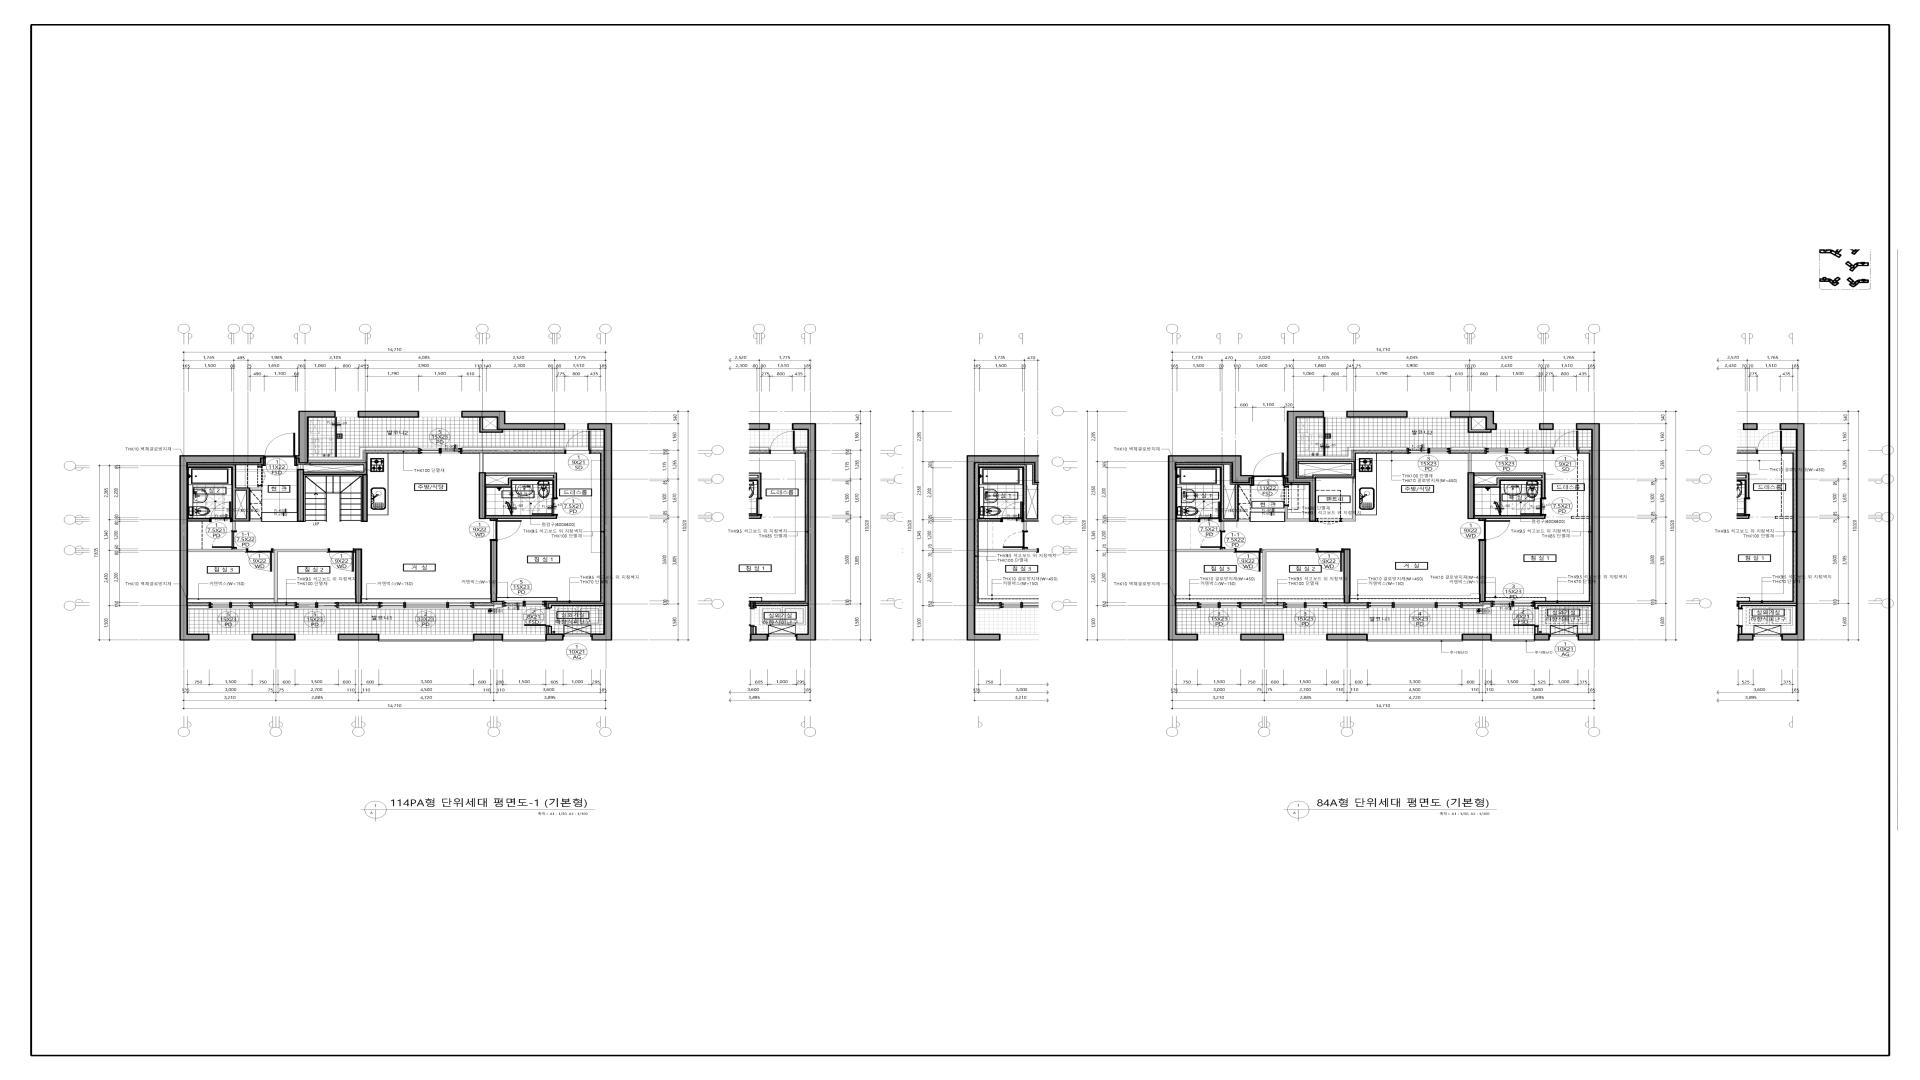door: (264, 433, 296, 466), (1253, 453, 1284, 486), (1478, 519, 1510, 541), (490, 519, 522, 541), (246, 548, 274, 572), (1235, 548, 1262, 572), (1317, 548, 1344, 572), (328, 548, 355, 572), (1553, 431, 1579, 454), (565, 431, 591, 454), (524, 608, 552, 626), (1520, 497, 1546, 515), (1200, 531, 1225, 549), (212, 531, 237, 549), (532, 498, 558, 515), (1198, 502, 1220, 522), (209, 502, 231, 522), (1316, 518, 1341, 525)
wall: (179, 455, 264, 641), (1168, 455, 1253, 641), (587, 423, 612, 641), (1576, 423, 1600, 641), (1176, 464, 1250, 531), (188, 464, 261, 531), (1284, 411, 1324, 522), (1298, 461, 1356, 521), (1262, 549, 1317, 603), (274, 549, 328, 602), (296, 411, 336, 463), (461, 411, 566, 430), (1475, 473, 1546, 497), (486, 473, 557, 497), (309, 447, 419, 460), (1297, 447, 1407, 459), (1450, 411, 1497, 430), (304, 462, 368, 475), (1346, 411, 1408, 418), (1343, 548, 1351, 602), (358, 411, 419, 418), (1479, 541, 1486, 601), (490, 541, 497, 601), (355, 548, 362, 603), (297, 469, 304, 522), (1285, 506, 1309, 521), (1468, 418, 1492, 433), (479, 418, 503, 433), (1468, 472, 1475, 519), (479, 472, 486, 519), (462, 447, 565, 450), (1240, 634, 1284, 641), (252, 634, 296, 641), (1326, 634, 1368, 641), (338, 634, 380, 641), (1534, 603, 1591, 608), (1475, 515, 1546, 519), (486, 515, 557, 519), (362, 475, 368, 522), (548, 603, 603, 608), (1462, 634, 1492, 641), (473, 634, 503, 641), (1176, 549, 1235, 552), (188, 549, 246, 552), (1462, 604, 1491, 609), (474, 604, 503, 609), (545, 634, 564, 641), (1241, 606, 1284, 609), (252, 606, 295, 609), (1327, 606, 1367, 609), (339, 606, 379, 609), (1534, 634, 1550, 641), (1539, 423, 1554, 430), (1451, 447, 1485, 450), (1176, 518, 1198, 522), (188, 518, 209, 522), (1468, 453, 1472, 472), (480, 453, 484, 472), (1528, 447, 1553, 450), (1176, 606, 1197, 609), (188, 606, 209, 609), (591, 447, 604, 450), (1579, 447, 1591, 450), (1534, 627, 1539, 634), (548, 626, 552, 634), (298, 465, 304, 469), (1285, 485, 1288, 486)
window: (1368, 634, 1462, 642), (379, 602, 474, 609), (380, 634, 473, 641), (1367, 602, 1462, 608), (209, 602, 252, 609), (295, 602, 338, 609), (503, 634, 545, 641), (1492, 634, 1534, 641), (502, 601, 546, 607), (1197, 602, 1241, 608), (1407, 448, 1451, 454), (419, 448, 462, 454), (1284, 602, 1327, 608), (1491, 601, 1534, 607), (1485, 448, 1528, 454), (419, 411, 461, 417), (296, 634, 338, 640), (1408, 411, 1450, 417), (1198, 634, 1240, 640), (1284, 634, 1326, 640), (210, 634, 251, 640), (1497, 424, 1539, 429), (1550, 634, 1578, 640), (564, 634, 591, 640), (336, 411, 358, 417), (1324, 411, 1346, 417), (1554, 424, 1576, 429), (566, 424, 587, 429)
